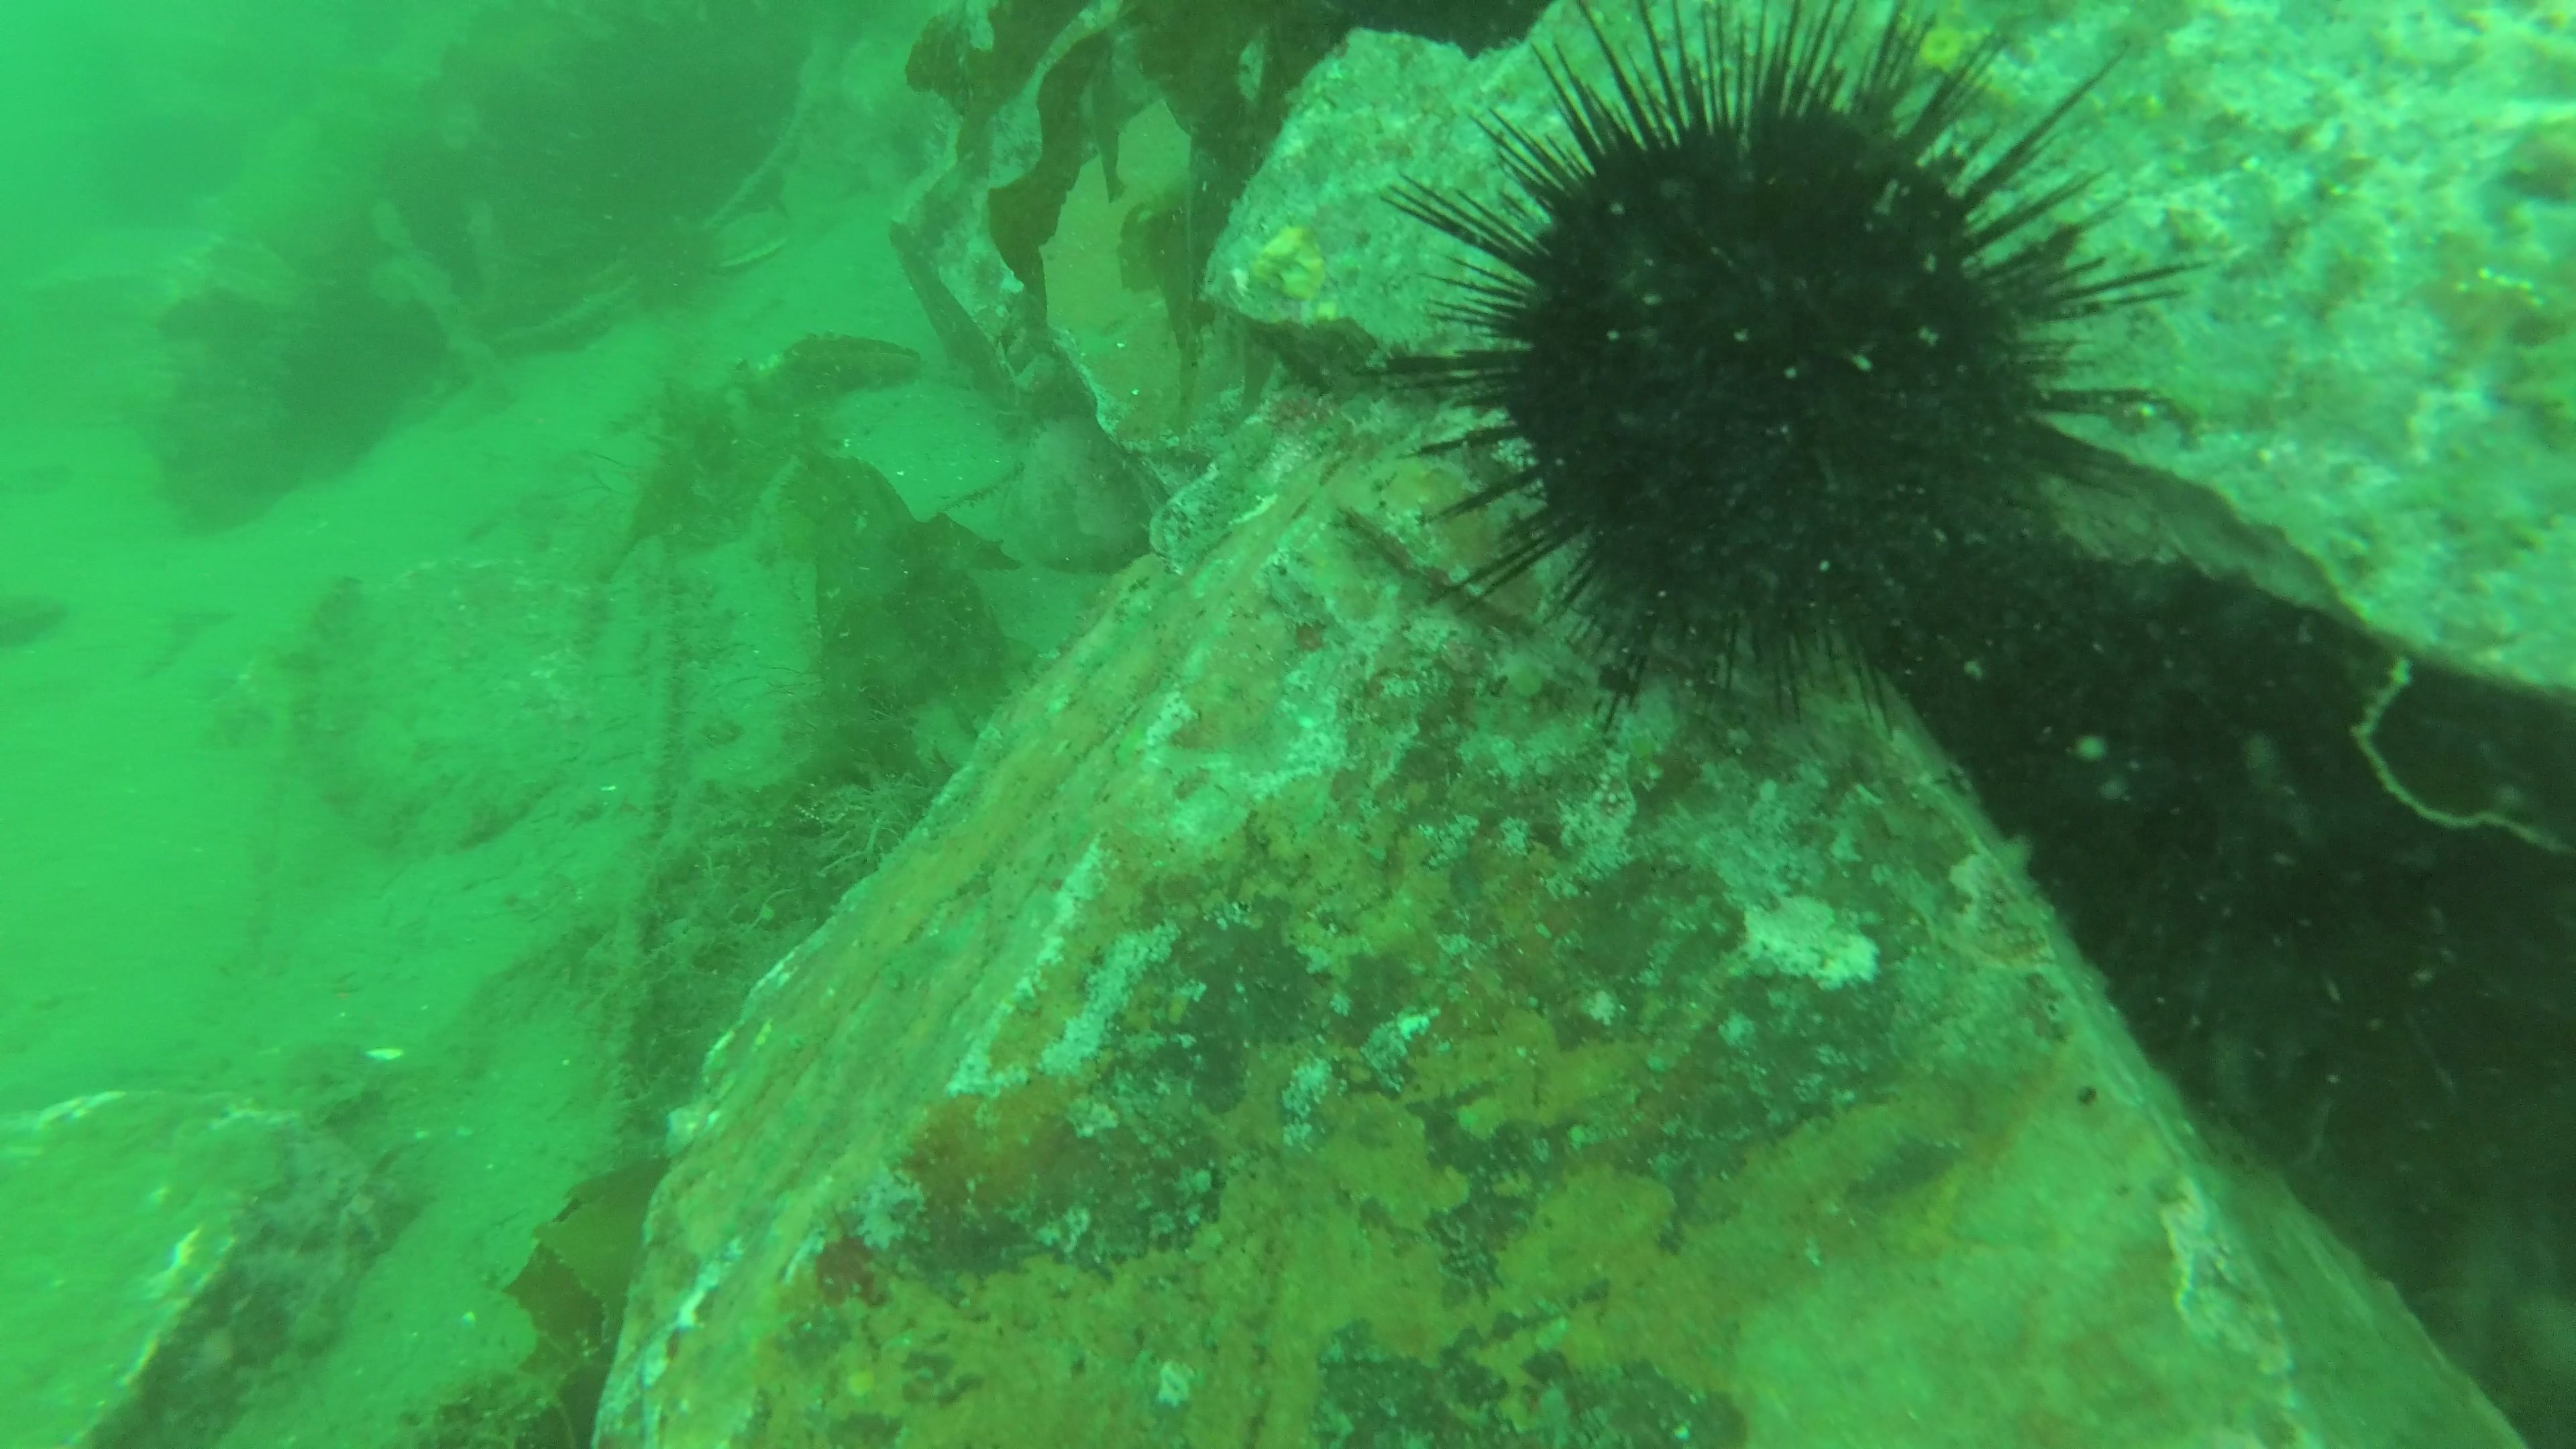echinus: (1378, 0, 2206, 738)
